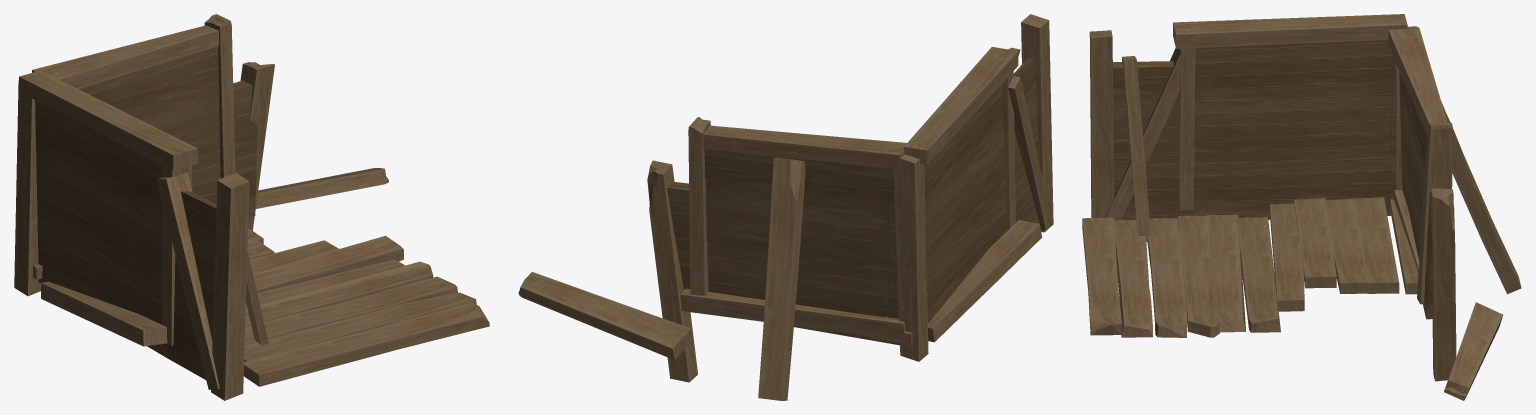
Rendered from SM_ChristmasDiorama_House.fbx.
3 views of the same model, side by side, from view 1: azimuth 30°, elevation 25°; view 2: azimuth 150°, elevation 25°; view 3: azimuth 270°, elevation 25° (orthographic). The views are drawn at different scales.
Visible parts, largest first — view 1: SM_ChristmasDiorama_House_LOD0; view 2: SM_ChristmasDiorama_House_LOD0; view 3: SM_ChristmasDiorama_House_LOD0.
Part boxes in pixels (left/top/right/bottom): SM_ChristmasDiorama_House_LOD0: left=14, top=14, right=489, bottom=400; SM_ChristmasDiorama_House_LOD0: left=518, top=14, right=1053, bottom=400; SM_ChristmasDiorama_House_LOD0: left=1082, top=14, right=1521, bottom=400.
Size of the model in its own units: 781 by 536 by 812.
